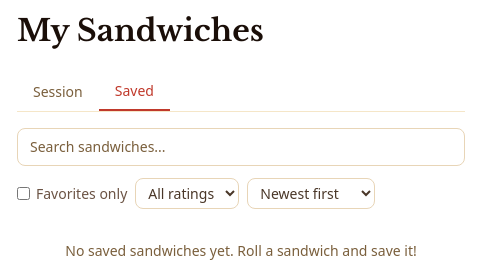
HistoryPage › session history tab › switching to Session tab shows session history entries
What coordinates should you click on to do the following:
click the tab "Session"
I would click on:
 (58, 92)
Its box is [17,73,99,111].
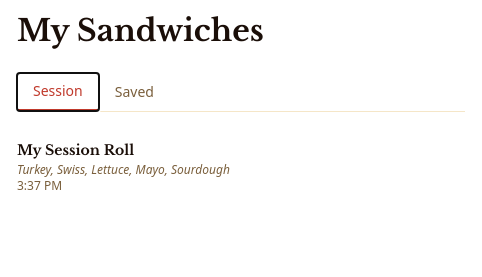
Expected: the link "My Session Roll" is shown, [17,141,134,159]
